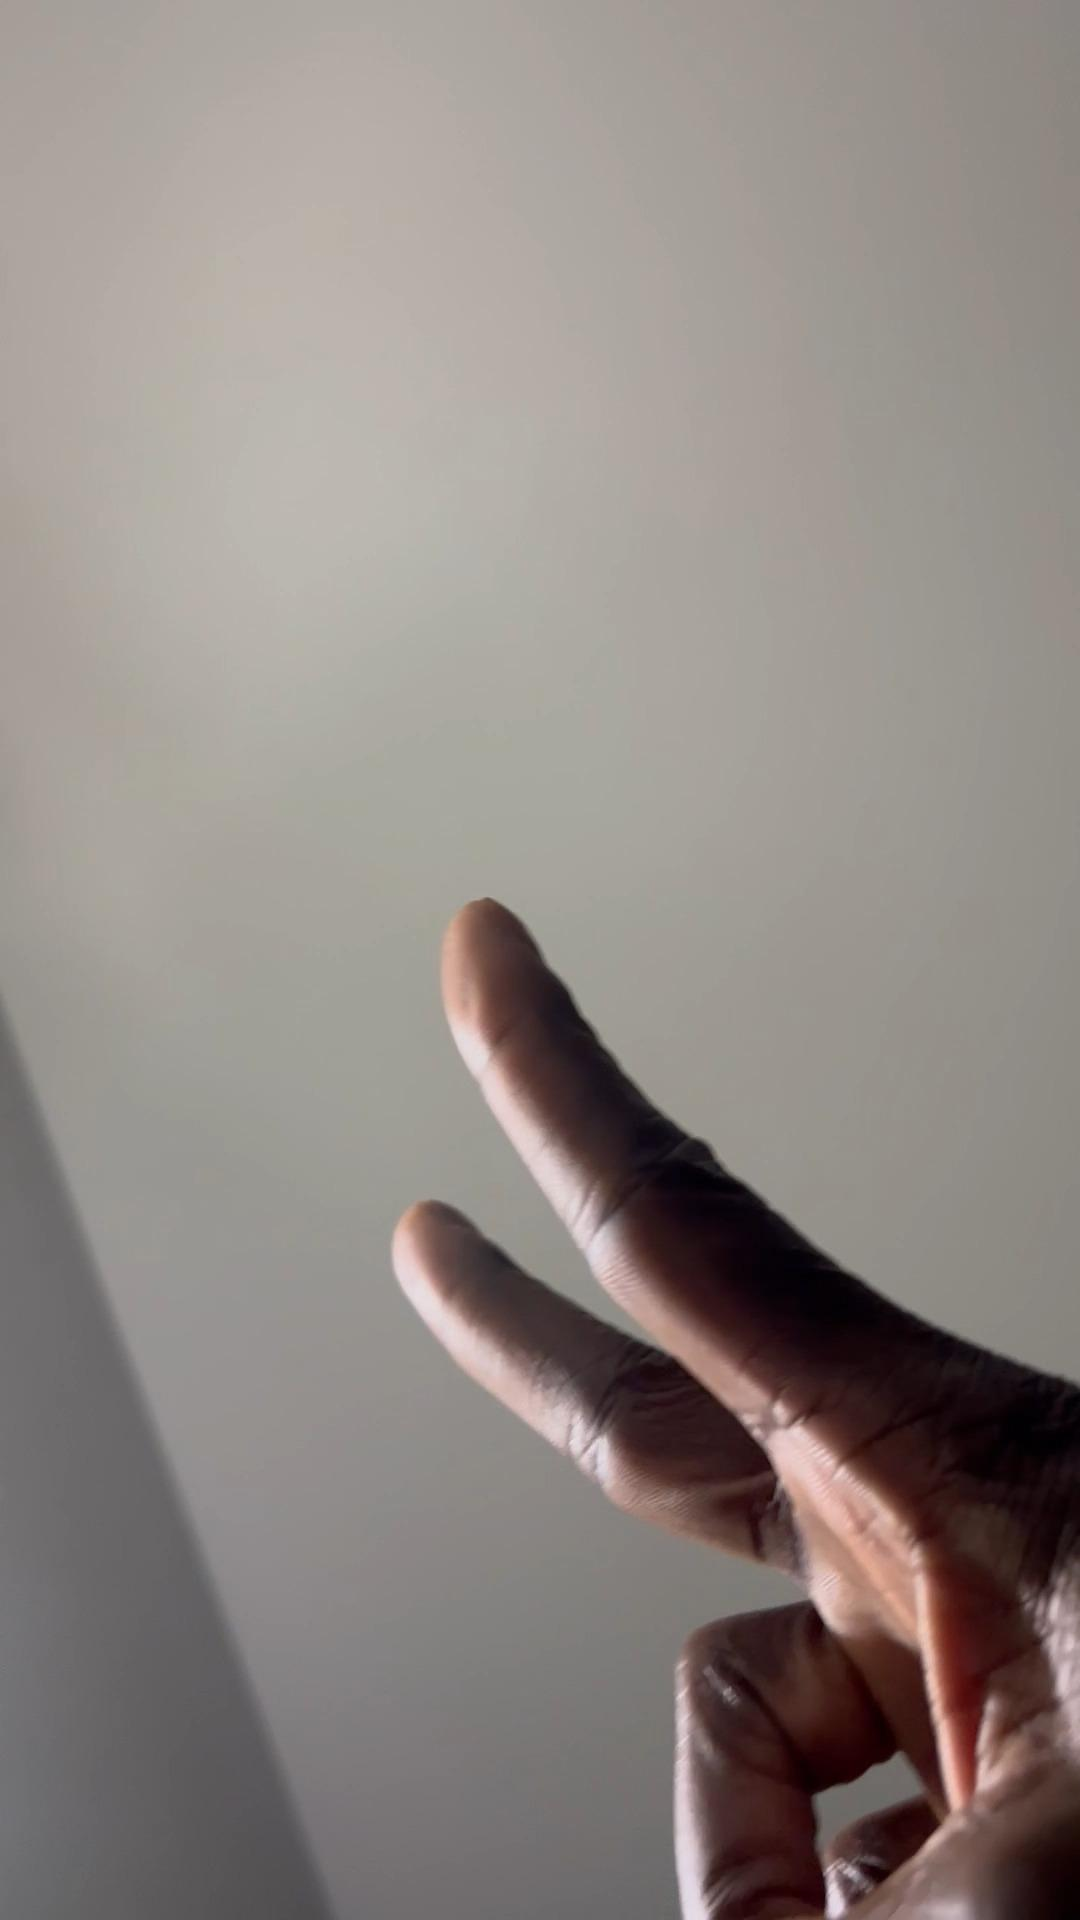Scissors: (390, 887, 1080, 1920)
